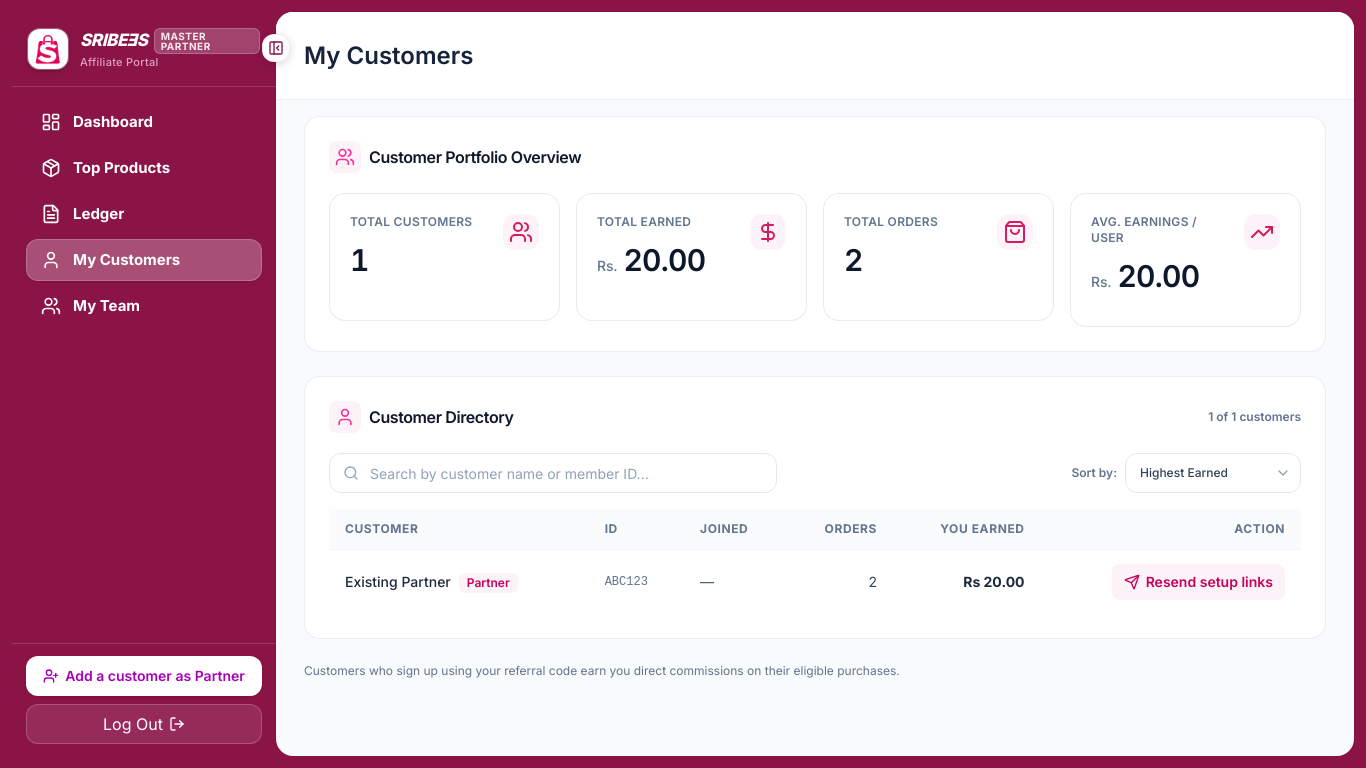
Scenario: customer invitation channels › resends through only sms for an existing Partner
Later steps or results of the test are not shown.
Click the button "Resend setup links". click: {"x": 1198, "y": 582}
box: top-left (1112, 564), bottom-right (1285, 600)
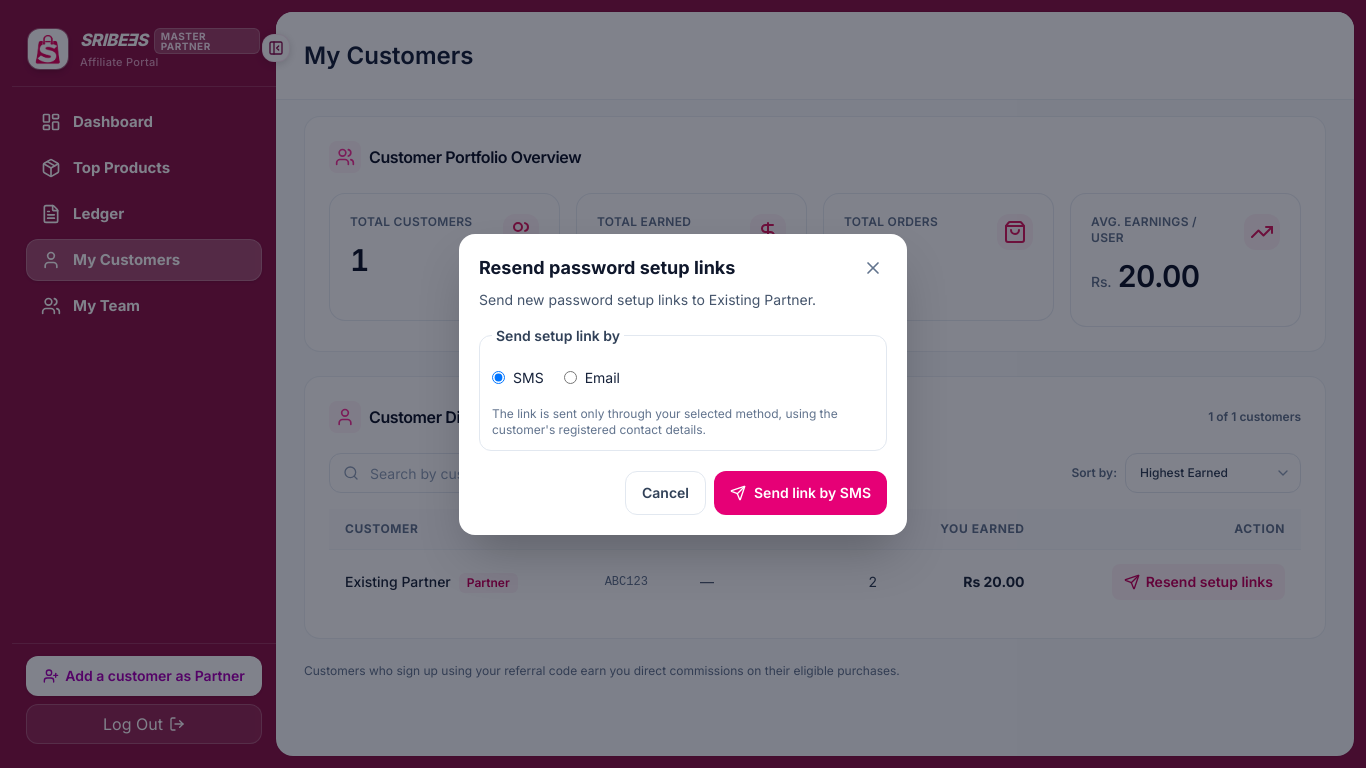
Check: the heading "Resend password setup links" is shown, box top-left (479, 256), bottom-right (735, 278)
